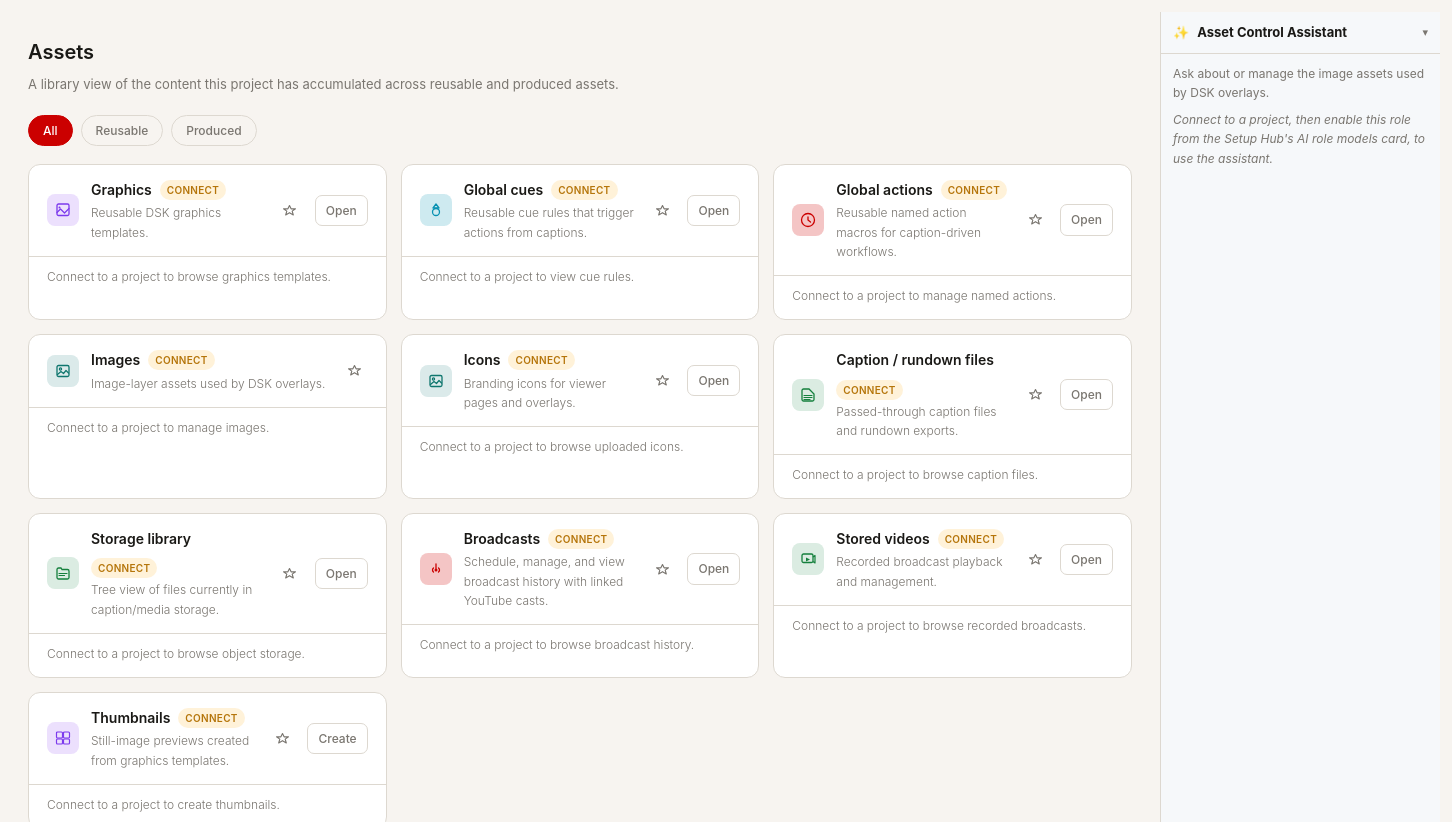
Test case: AssetsPage › switches the visible card groups when the filter pills change
Click the button "Reusable" at (122, 130), box [81, 115, 163, 146]
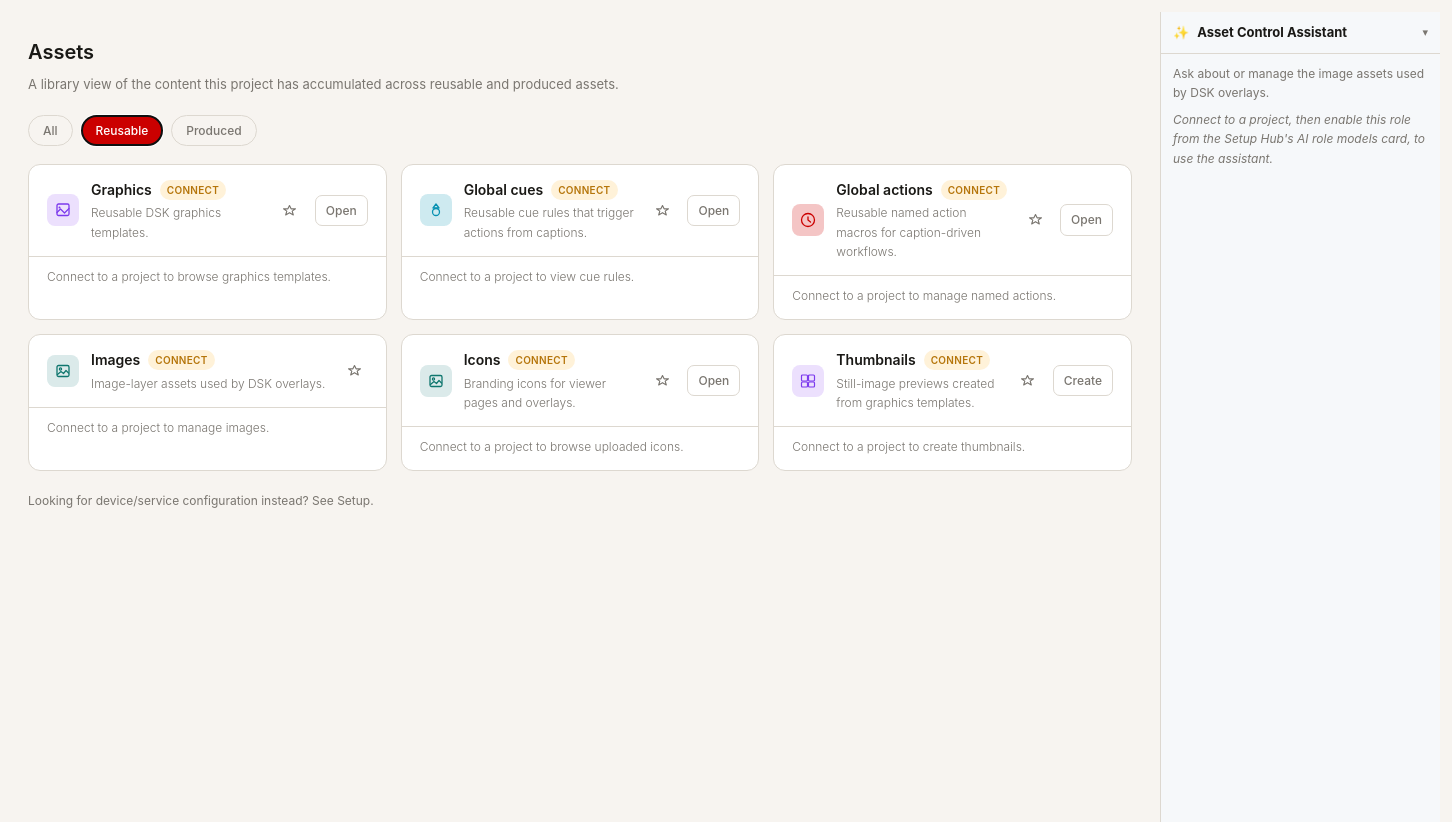
Expected: the text "Graphics" is shown, [91, 179, 152, 201]
Result: the text "Caption / rundown files" is gone
Result: the text "Stored videos" is gone
